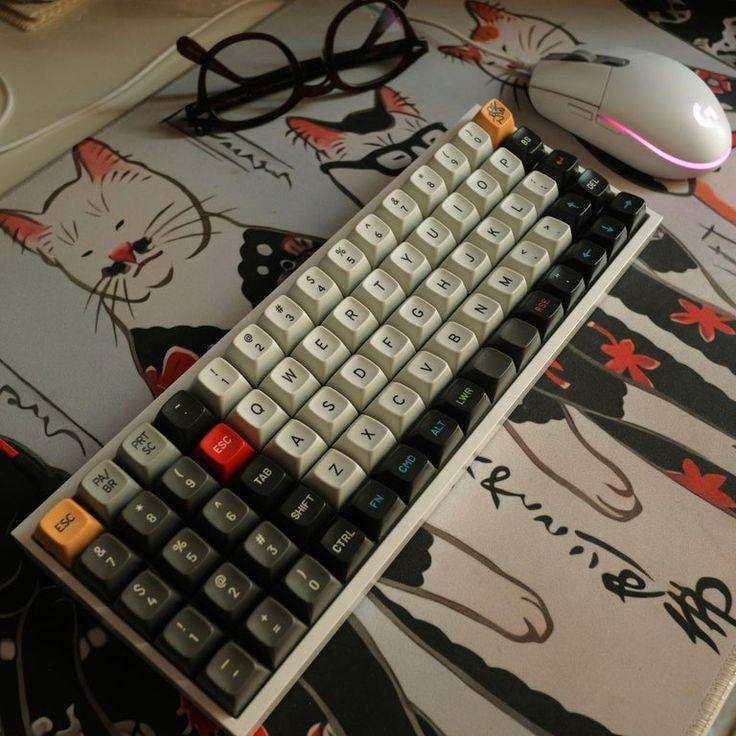keyboard: (8, 96, 664, 735)
